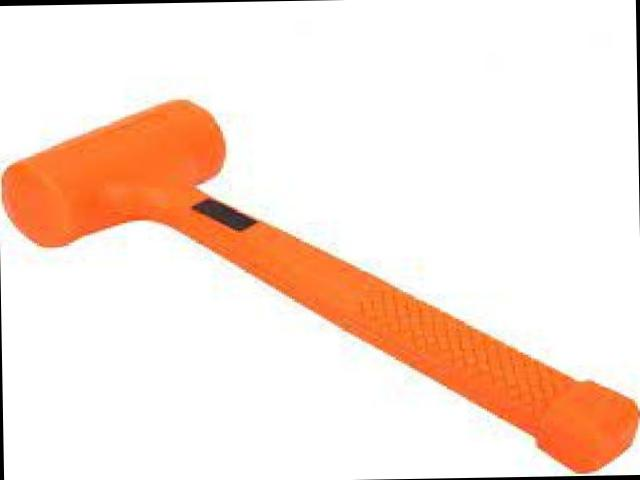hammer: (2, 90, 640, 480)
